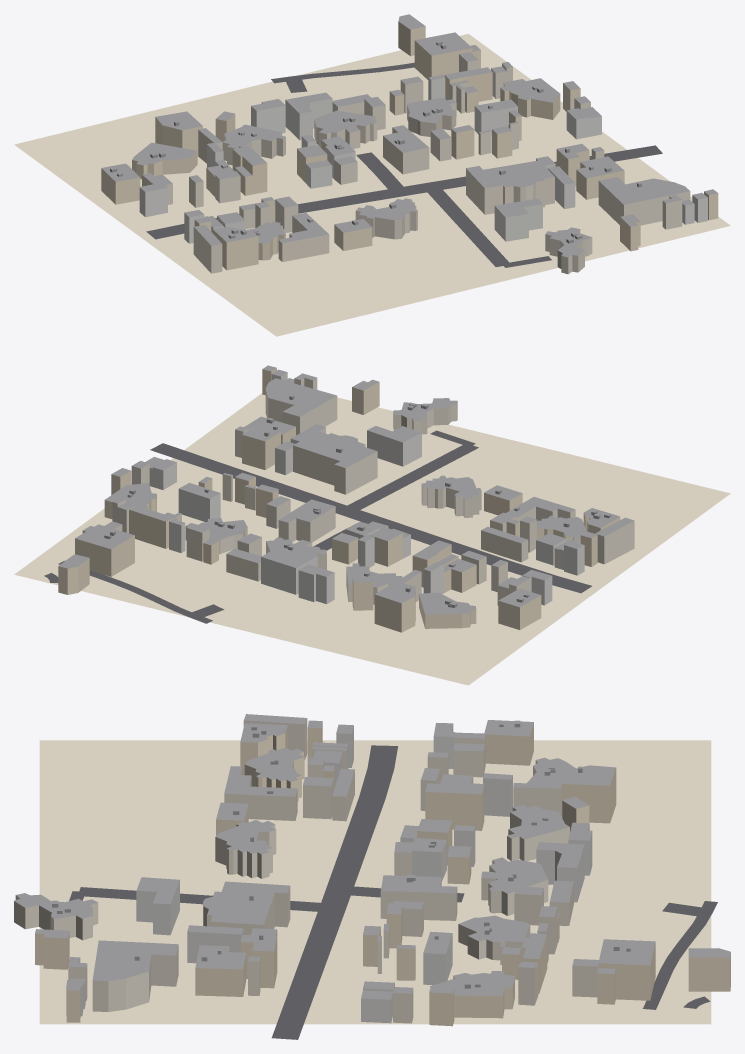
File: tile_4_-4_far.glb
3 views of the same model, one above another, from view 1: azimuth 30°, elevation 25°; view 2: azimuth 150°, elevation 25°; view 3: azimuth 270°, elevation 25° (orthographic). The views are drawn at different scales.
Visible parts, largest first — view 1: nature_ground, buildings_roof, buildings_concrete_warm, buildings_sandstone, buildings_concrete_light, roads_asphalt; view 2: nature_ground, buildings_roof, buildings_concrete_warm, buildings_sandstone, buildings_concrete_light, roads_asphalt; view 3: nature_ground, buildings_roof, buildings_concrete_warm, buildings_sandstone, roads_asphalt, buildings_concrete_light.
Part boxes in pixels (x1=…): nature_ground: x1=14, y1=33, x2=730, y2=336; buildings_roof: x1=101, y1=14, x2=717, y2=257; buildings_concrete_warm: x1=142, y1=54, x2=690, y2=274; buildings_sandstone: x1=101, y1=21, x2=718, y2=270; buildings_concrete_light: x1=139, y1=77, x2=707, y2=243; roads_asphalt: x1=146, y1=62, x2=662, y2=267; nature_ground: x1=14, y1=393, x2=730, y2=685; buildings_roof: x1=59, y1=365, x2=634, y2=614; buildings_concrete_warm: x1=112, y1=378, x2=634, y2=605; buildings_sandstone: x1=58, y1=368, x2=620, y2=632; buildings_concrete_light: x1=149, y1=372, x2=584, y2=605; roads_asphalt: x1=44, y1=430, x2=591, y2=623; nature_ground: x1=39, y1=740, x2=711, y2=1024; buildings_roof: x1=14, y1=714, x2=730, y2=999; buildings_concrete_warm: x1=14, y1=719, x2=598, y2=1023; buildings_sandstone: x1=35, y1=721, x2=730, y2=1026; roads_asphalt: x1=69, y1=745, x2=717, y2=1039; buildings_concrete_light: x1=66, y1=725, x2=592, y2=1023.
Size of the model in its own units: 264 by 17.34 by 267.
